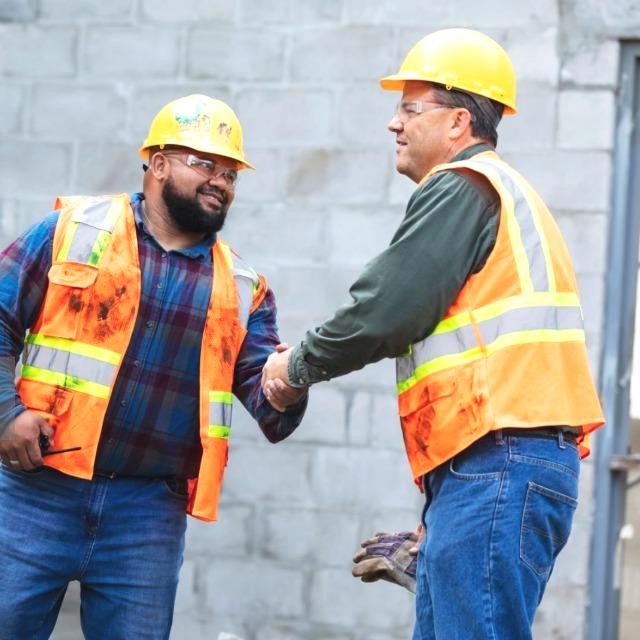Con_Casco: (382, 29, 518, 173), (139, 92, 253, 225)
Con_Chaleco: (15, 192, 249, 521), (391, 156, 596, 471)
